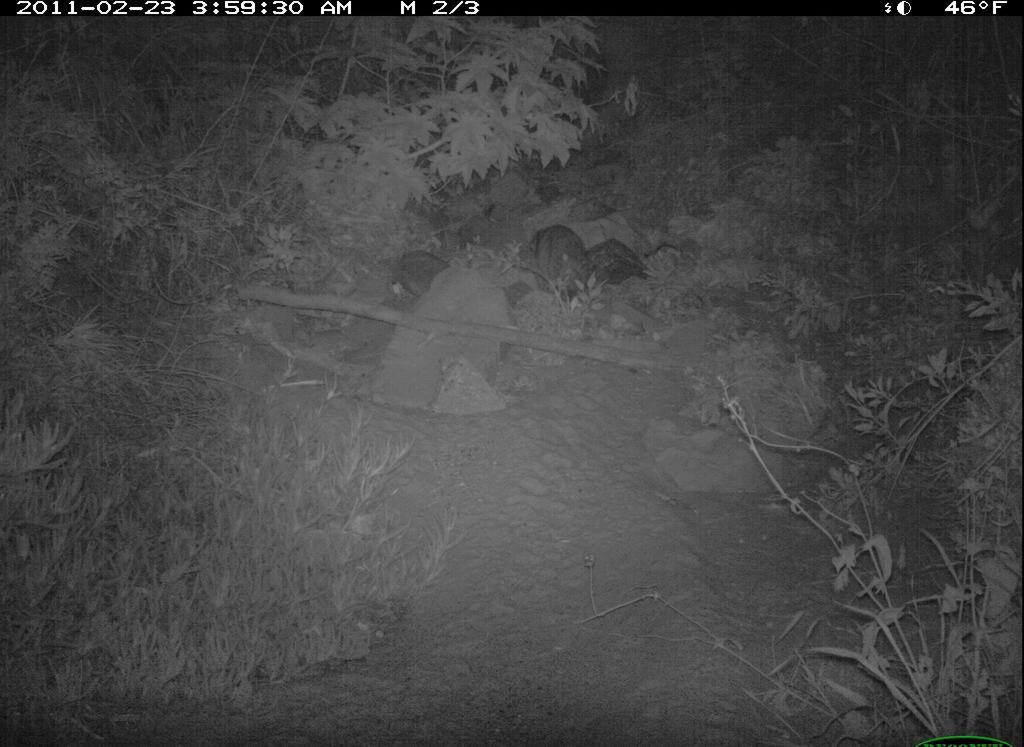raccoon: (516, 219, 605, 312)
